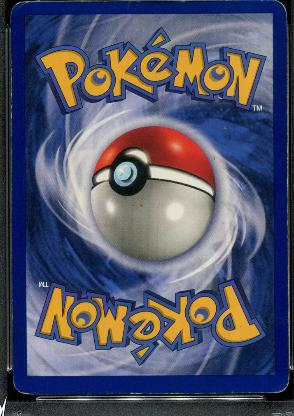Card: (7, 0, 292, 397)
Corner Wear: (11, 376, 36, 394), (270, 372, 289, 393), (7, 0, 28, 18), (271, 0, 288, 17)
Edge Wear: (285, 41, 288, 341), (209, 390, 268, 394), (10, 51, 12, 136), (117, 0, 189, 2), (148, 392, 206, 394), (86, 392, 117, 394), (130, 392, 143, 394), (11, 310, 12, 330)
Scratch: (216, 95, 221, 101)
